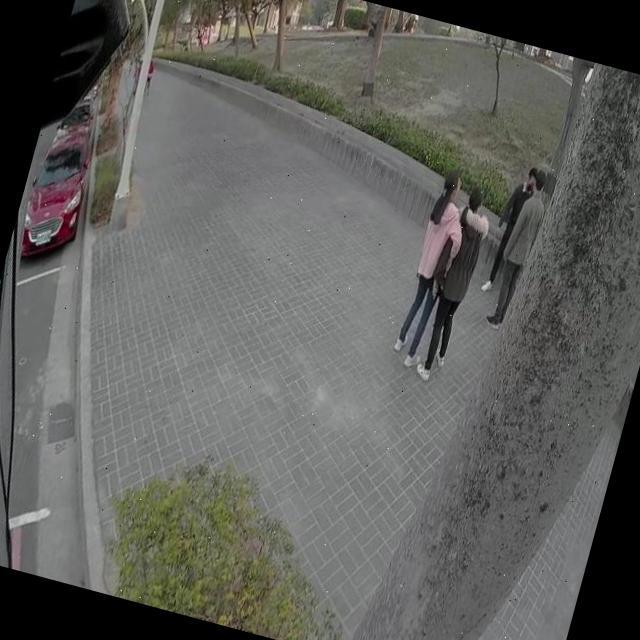person: (390, 168, 467, 364), (418, 188, 496, 380), (487, 170, 552, 329), (482, 166, 537, 294)
